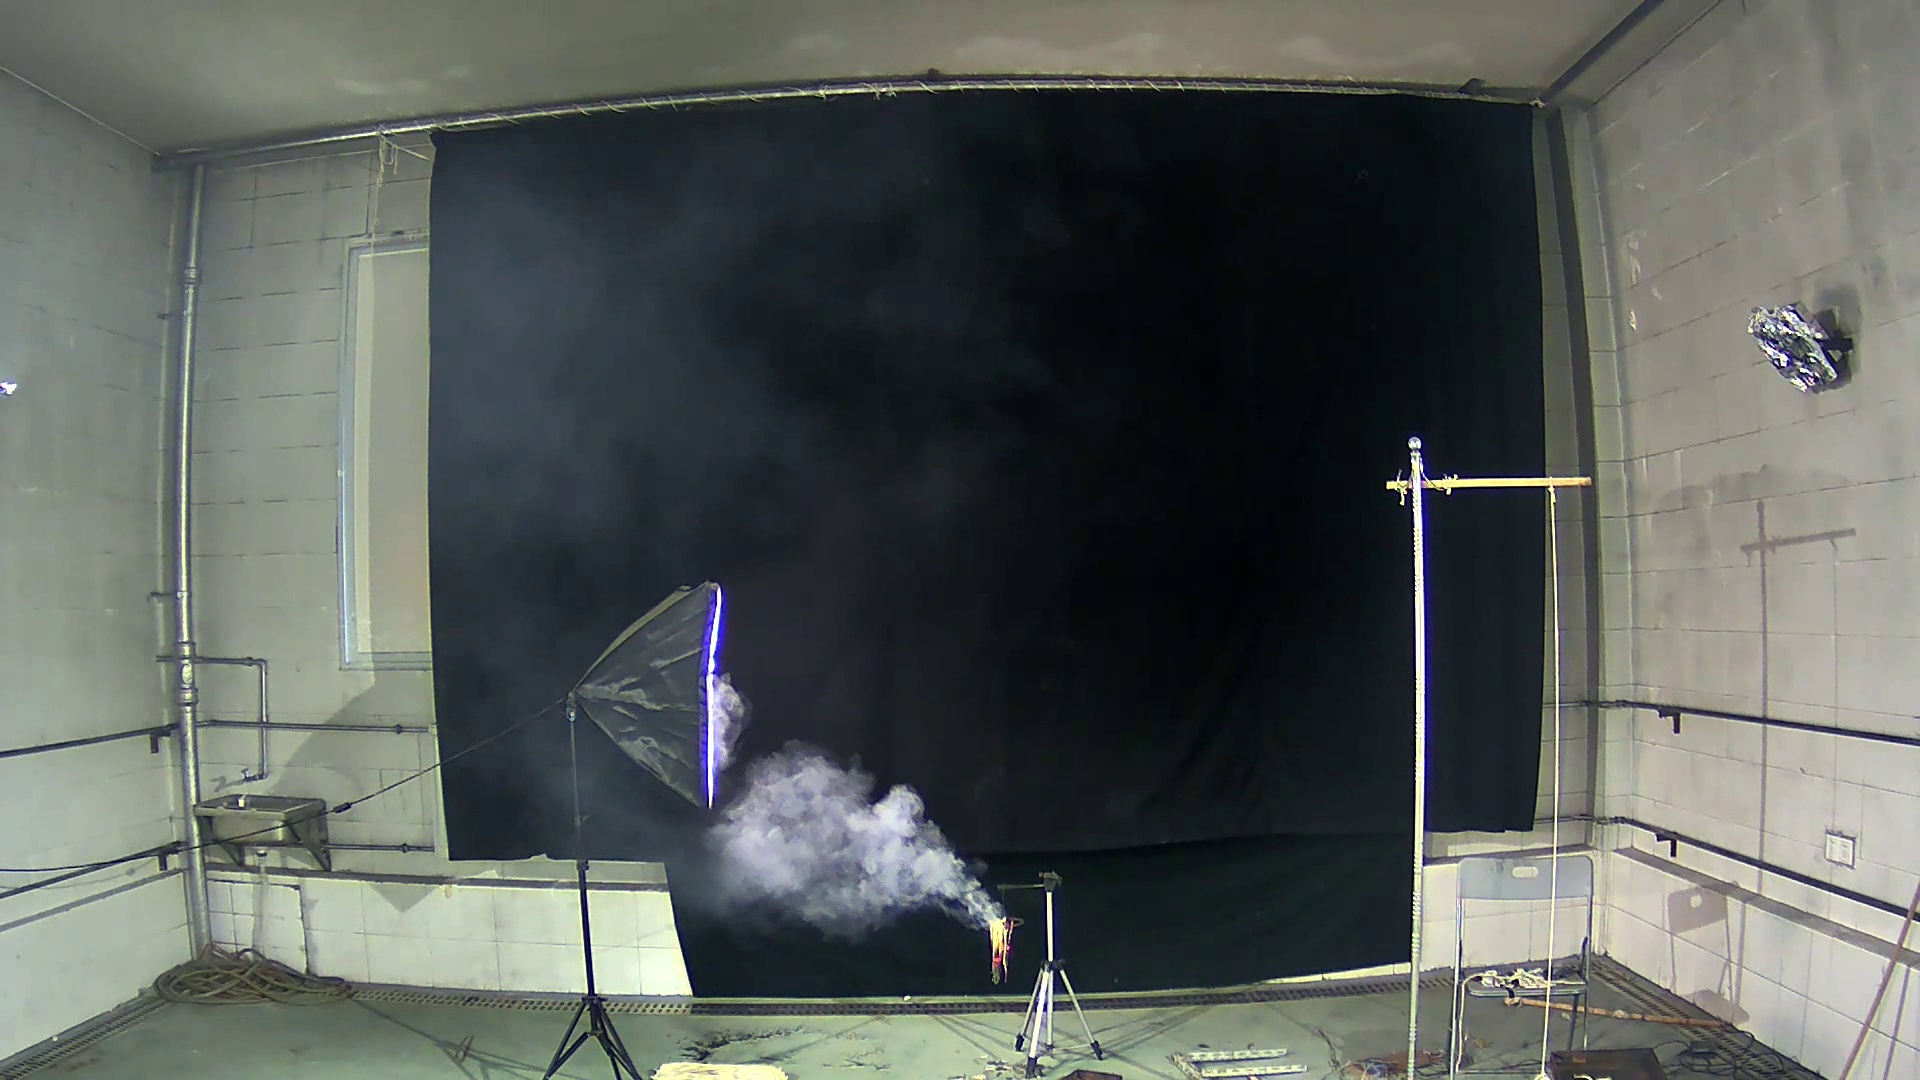smoke: (725, 746, 1006, 942)
